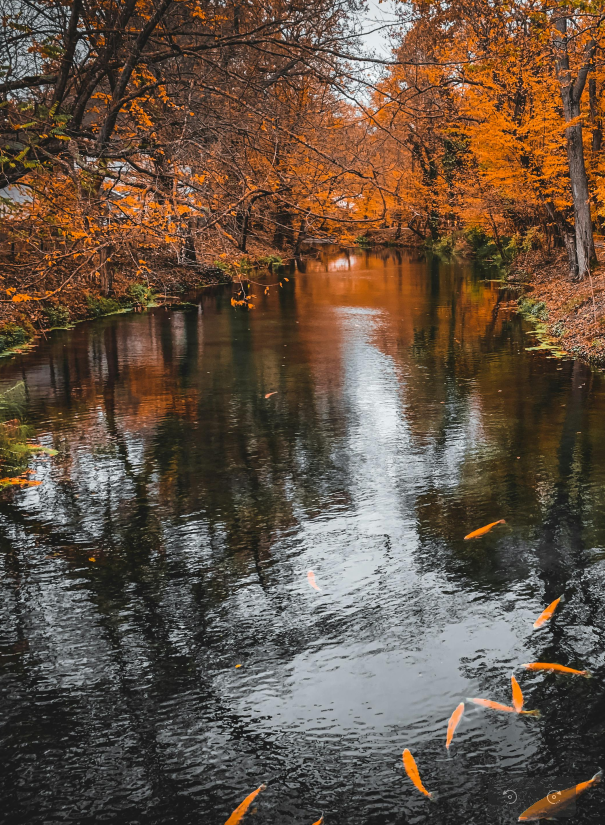fishLarge: (514, 769, 602, 825), (400, 745, 436, 804), (224, 780, 265, 825), (467, 695, 539, 718), (530, 593, 565, 632), (518, 658, 588, 676), (442, 700, 463, 756), (462, 517, 504, 542), (508, 667, 524, 714), (304, 565, 323, 596)
